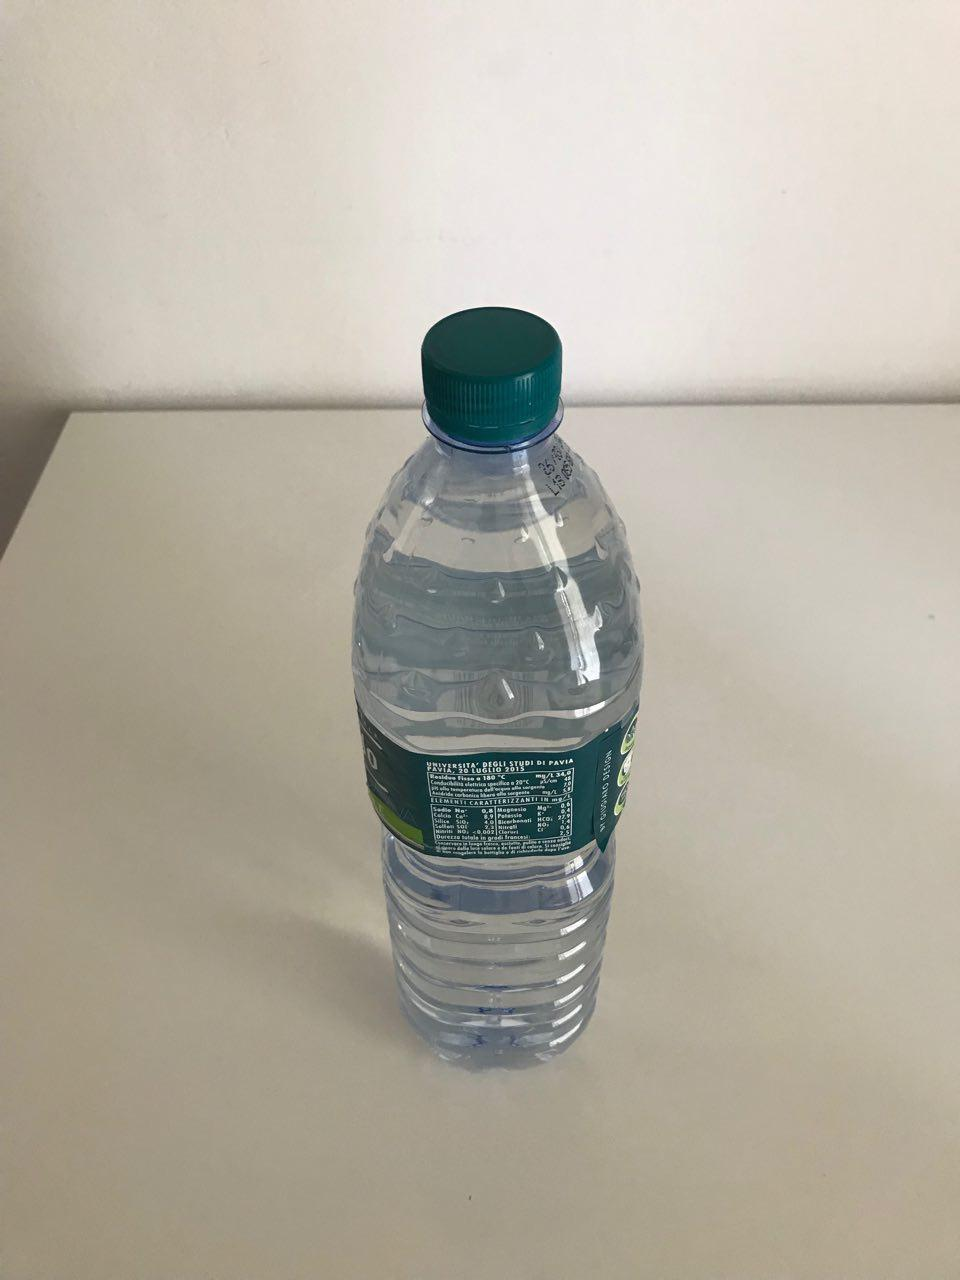san_bernardo: (350, 304, 646, 1074)
